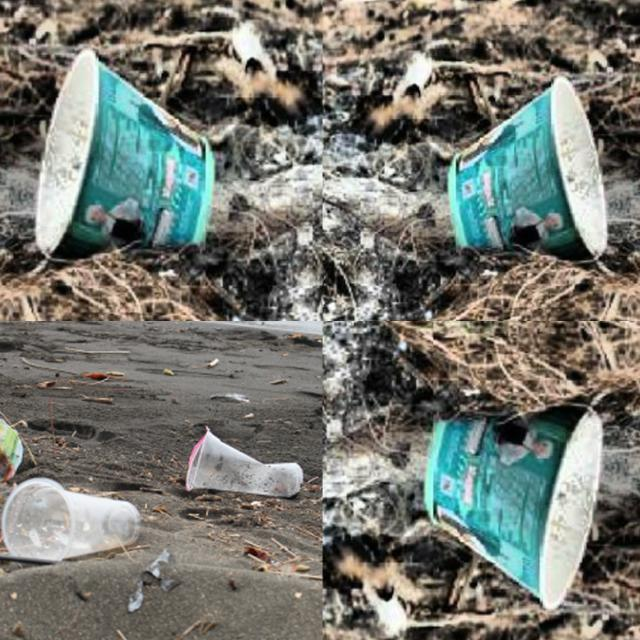plastik: (36, 49, 213, 256), (424, 405, 602, 608), (448, 77, 607, 259), (1, 478, 140, 561), (185, 426, 303, 498)
